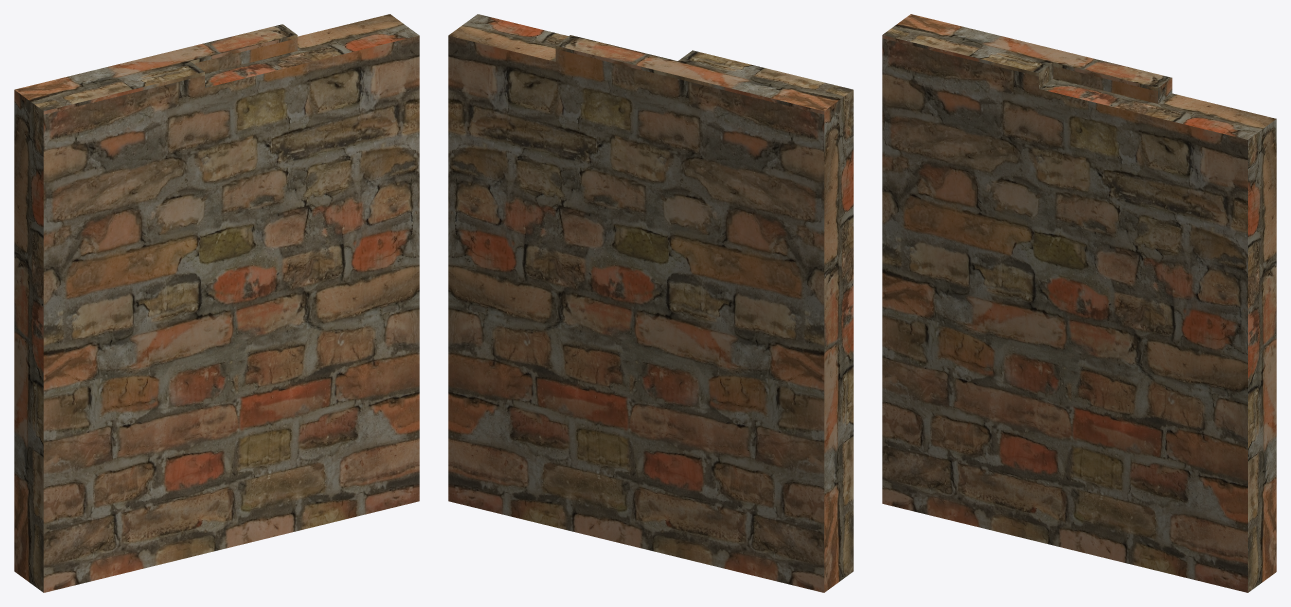
The model's file is brick_wall_high.dae.
The picture shows the model from 3 angles, left to right: view 1: azimuth 30°, elevation 25°; view 2: azimuth 150°, elevation 25°; view 3: azimuth 330°, elevation 25°; orthographic projection. The views are drawn at different scales.
Parts seen in each view (by area): view 1: Shape_IndexedFaceSet; view 2: Shape_IndexedFaceSet; view 3: Shape_IndexedFaceSet.
Part boxes in pixels (x1,y1,x2,y2): Shape_IndexedFaceSet: (14, 14, 419, 592); Shape_IndexedFaceSet: (448, 14, 853, 592); Shape_IndexedFaceSet: (882, 14, 1276, 592).
Size of the model in its own units: 1.47 by 0.2 by 1.8.
Materials: 1 (1 with a texture image).
